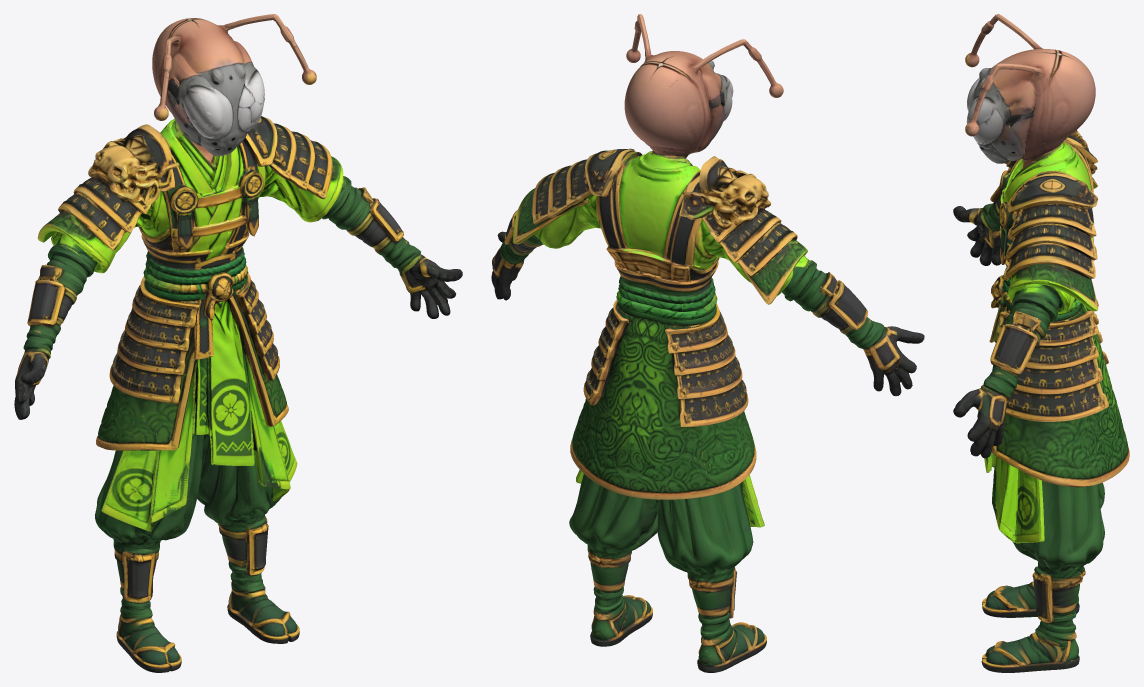
Rendered from rebel_4998_static_source_shogun_v4_multiview.glb.
The picture shows the model from 3 angles, left to right: view 1: azimuth 30°, elevation 25°; view 2: azimuth 150°, elevation 25°; view 3: azimuth 270°, elevation 25°; orthographic projection. The views are drawn at different scales.
Parts seen in each view (by area): view 1: Mesh_0; view 2: Mesh_0; view 3: Mesh_0.
Boxes of the visible parts, <box> form: Mesh_0: <box>14,14,462,672</box>; Mesh_0: <box>491,14,924,672</box>; Mesh_0: <box>953,14,1129,672</box>.
Bounding box in the file's own units: 1.4 × 1.9 × 0.5076.
Materials: 1 (1 with a texture image).
